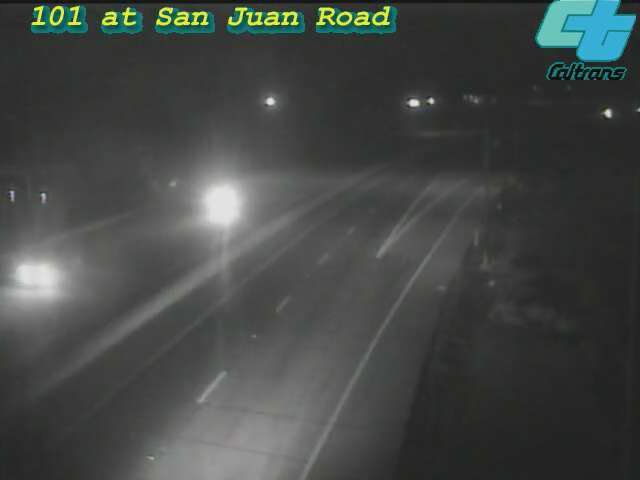vehicle: (187, 162, 267, 242), (1, 237, 76, 317), (582, 87, 632, 137)
